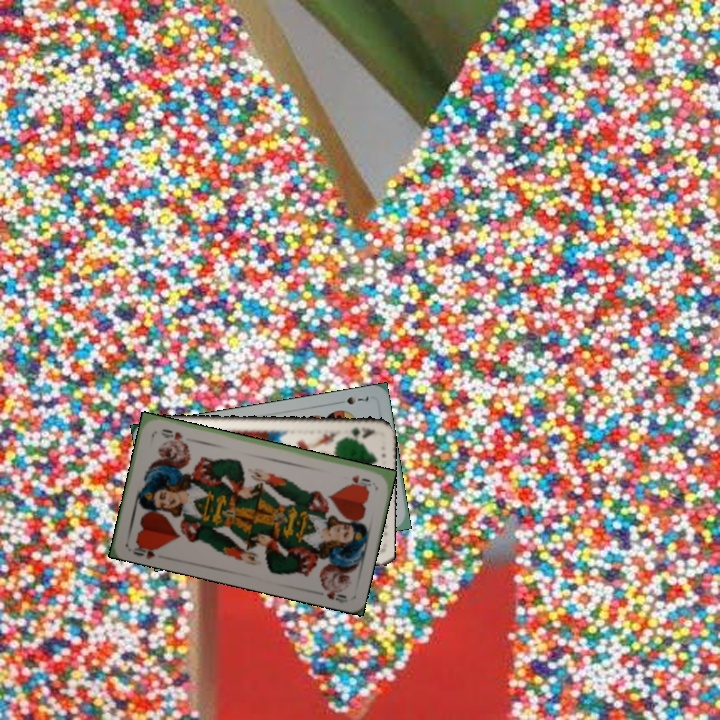GK: (339, 423, 379, 440)
HO: (129, 538, 163, 561), (348, 471, 374, 489)
S7: (342, 391, 371, 407)
